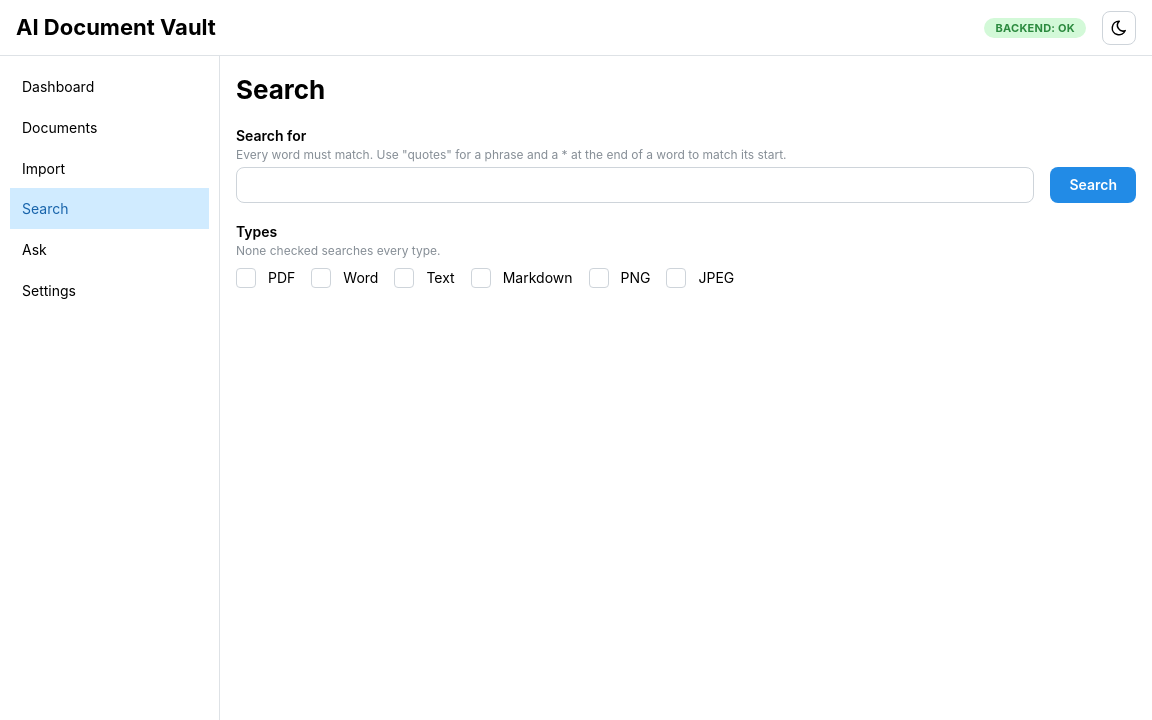
it: search page › marks matches in the name and the section titles too
This screenshot has width=1152, height=720.
Expected: the heading "Search" is shown, [236, 74, 325, 105]
Step 1. Type "Doe" into the search field labelled "Search for" → {"x": 635, "y": 185}, box [236, 167, 1034, 203]
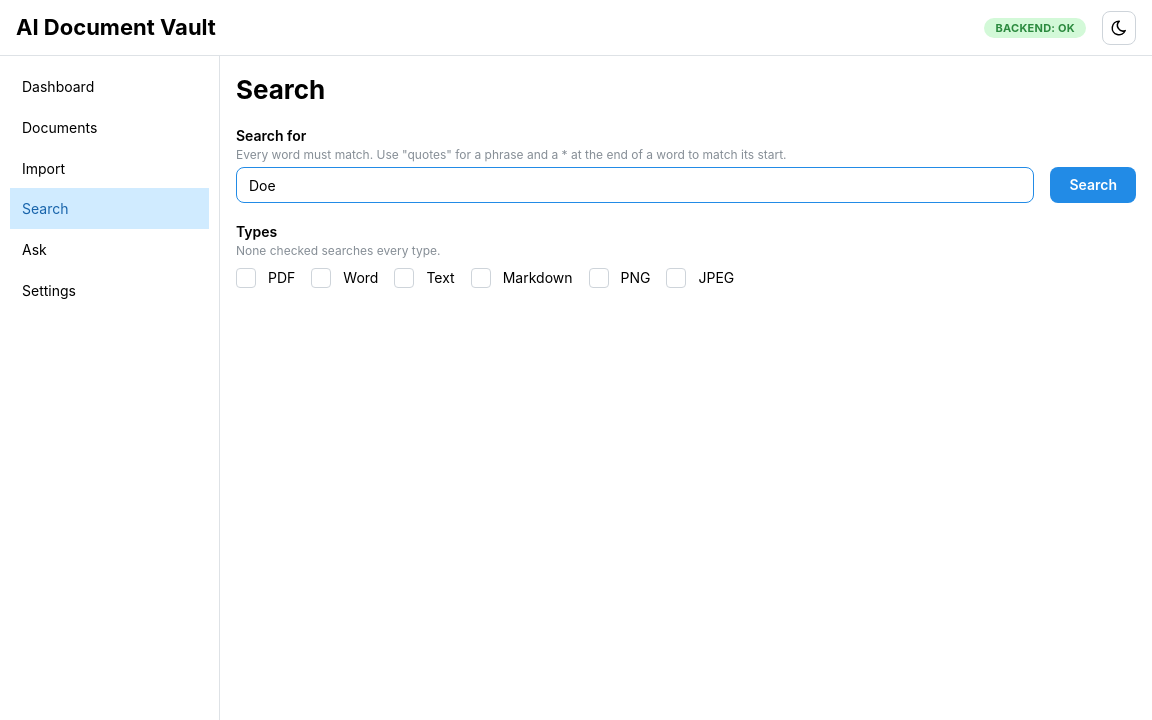
Step 2. Click the button "Search" → {"x": 1093, "y": 185}, box [1050, 167, 1136, 203]
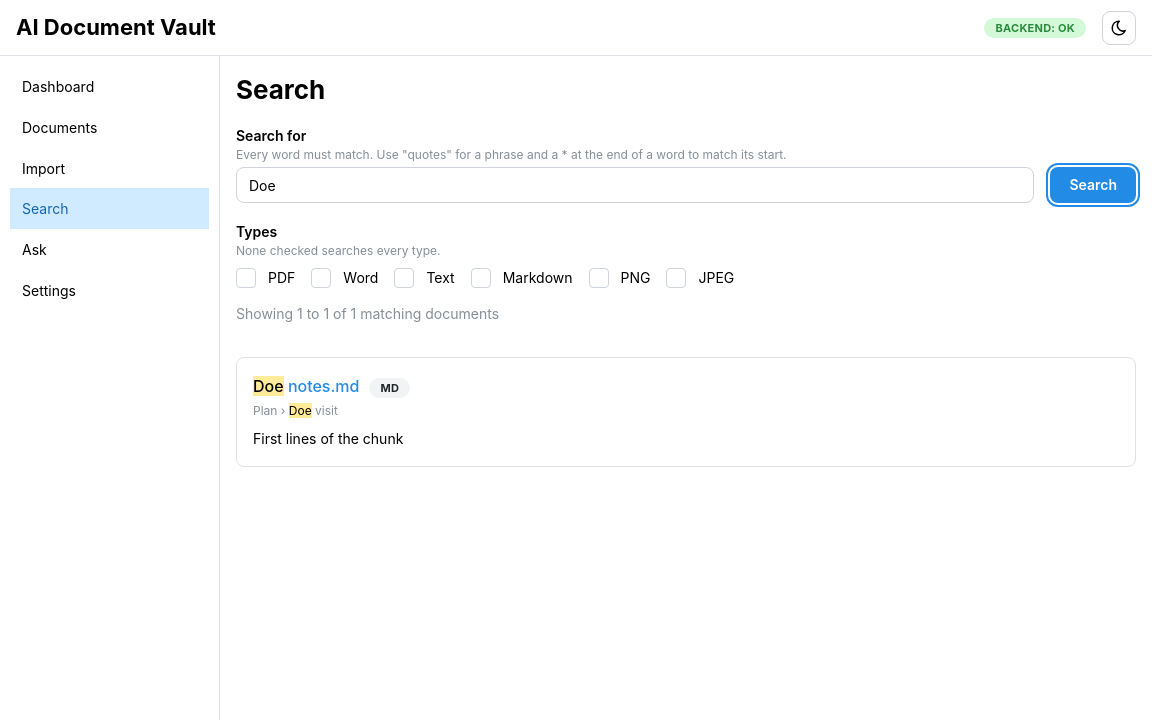
Now the link "Doe notes.md" is shown, box [253, 374, 359, 399]
Now the text "Doe" next to "notes.md" is shown, box [253, 376, 284, 396]
Now the text "Plan" reads "Plan › Doe visit", box [253, 403, 338, 418]
